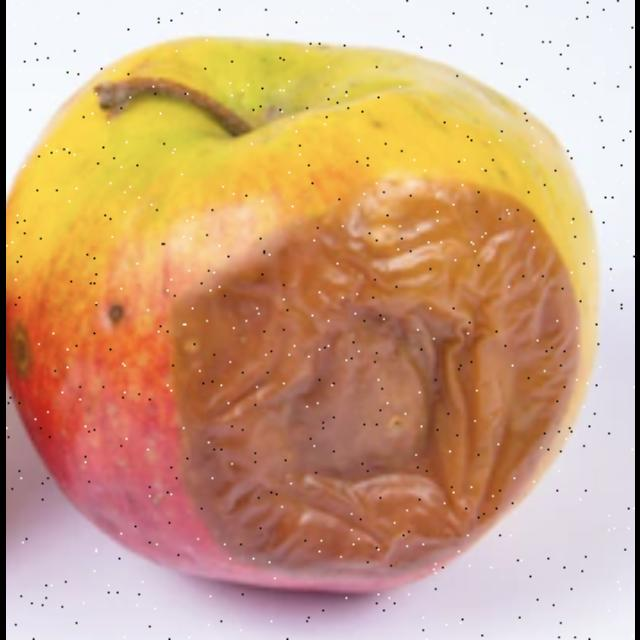Apel Tidak Segar: (5, 39, 595, 604)
